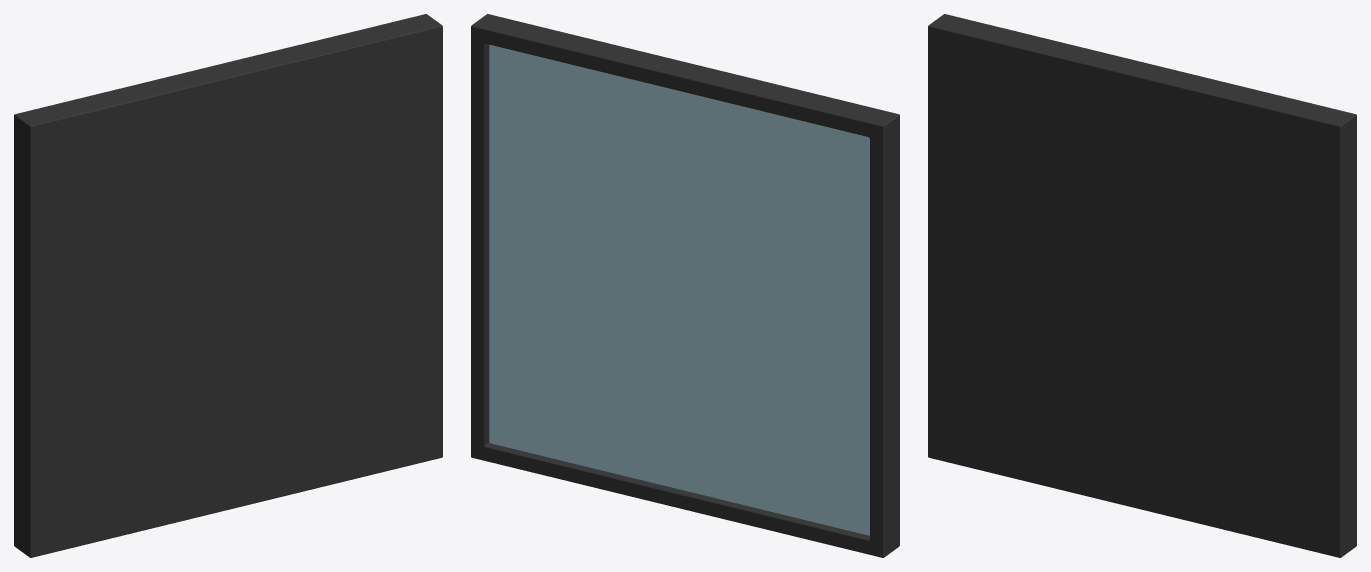
File: VP_Picture_Frames_03.FBX
The picture shows the model from 3 angles, left to right: view 1: azimuth 30°, elevation 25°; view 2: azimuth 150°, elevation 25°; view 3: azimuth 330°, elevation 25°; orthographic projection.
Parts seen in each view (by area): view 1: VP_Picture_Frames_03; view 2: VP_Picture_Frames_03; view 3: VP_Picture_Frames_03.
Boxes of the visible parts, x1,y1,x2,y2 form: VP_Picture_Frames_03: [14, 14, 442, 557]; VP_Picture_Frames_03: [471, 14, 899, 557]; VP_Picture_Frames_03: [928, 14, 1356, 557].
Size of what is drawn, in the model's own units: 36.04 by 2.53 by 36.04.
